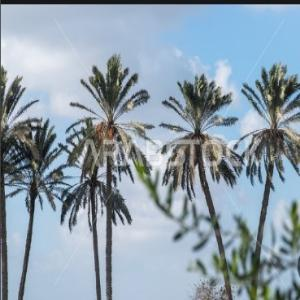palm tree: (64, 52, 156, 299), (157, 72, 243, 299), (233, 61, 299, 299), (3, 115, 69, 299), (0, 61, 40, 299)
